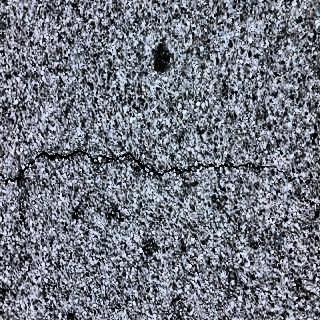crack: (0, 148, 294, 187)
